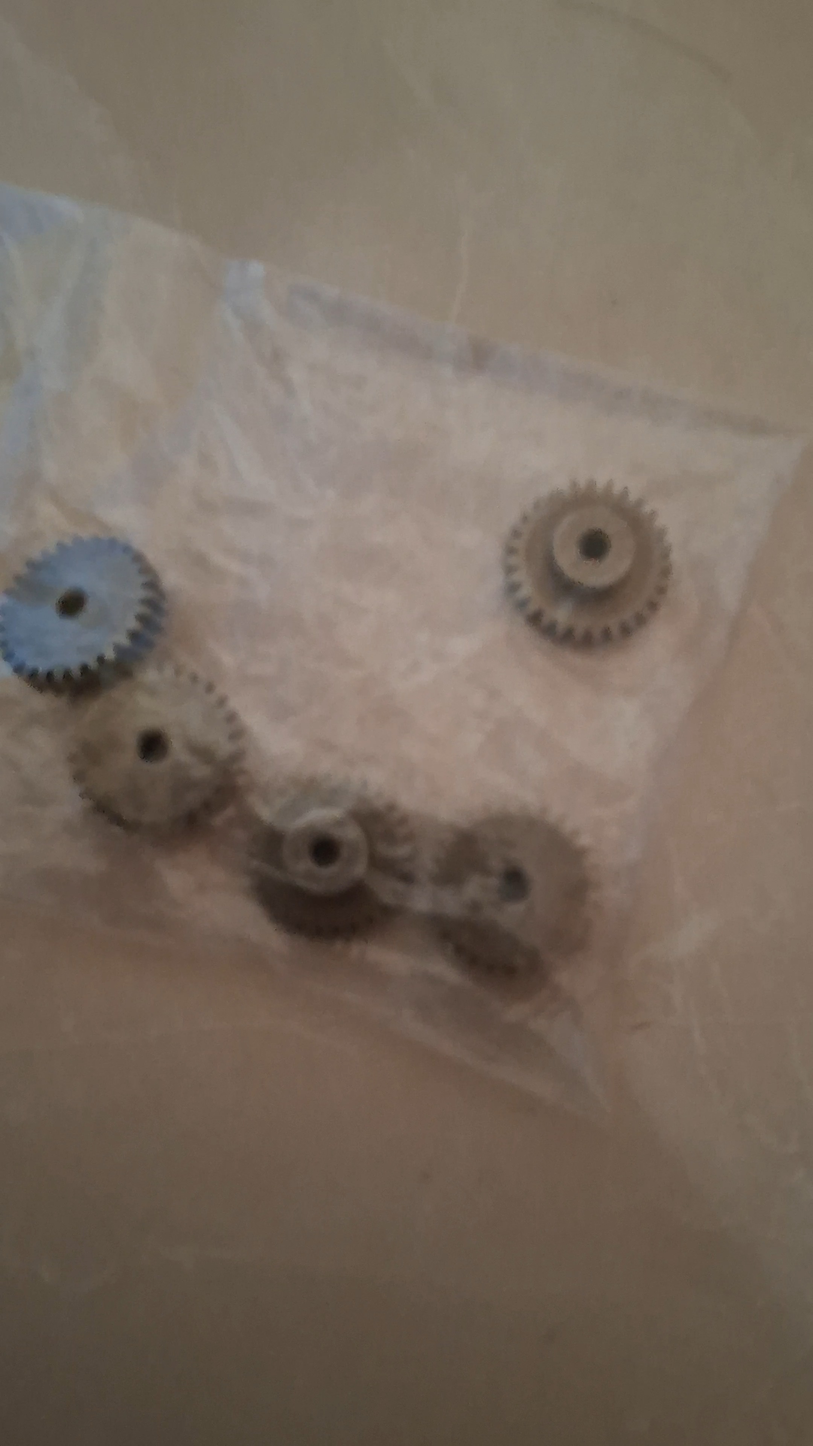spur gear: (71, 665, 242, 830), (504, 482, 671, 645), (248, 777, 415, 936), (432, 814, 591, 978), (0, 536, 164, 691)
